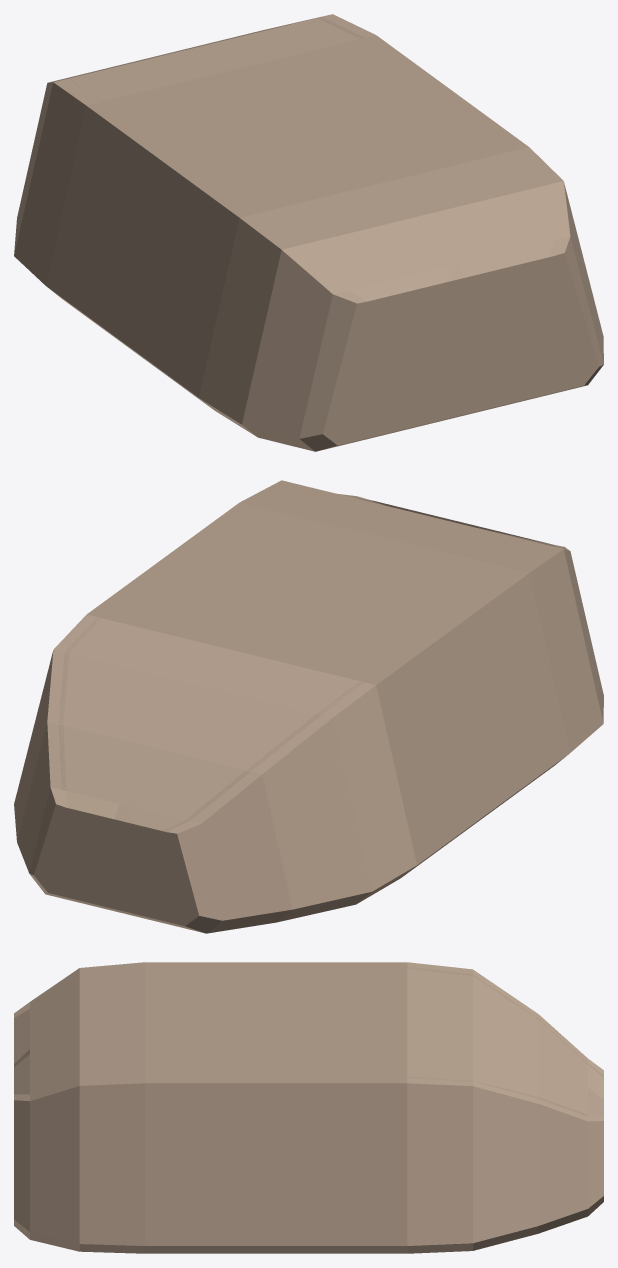
Rendered from orrin_light_a.glb.
The picture shows the model from 3 angles, top to bottom: view 1: azimuth 30°, elevation 25°; view 2: azimuth 150°, elevation 25°; view 3: azimuth 270°, elevation 25°; orthographic projection. The views are drawn at different scales.
Parts seen in each view (by area): view 1: orrin_light_a; view 2: orrin_light_a; view 3: orrin_light_a.
Part boxes in pixels (x1,y1,x2,y2): orrin_light_a: [14, 14, 603, 451]; orrin_light_a: [14, 480, 603, 933]; orrin_light_a: [14, 962, 603, 1253].
Bounding box in the file's own units: 3.3 × 1.59 × 5.3.
